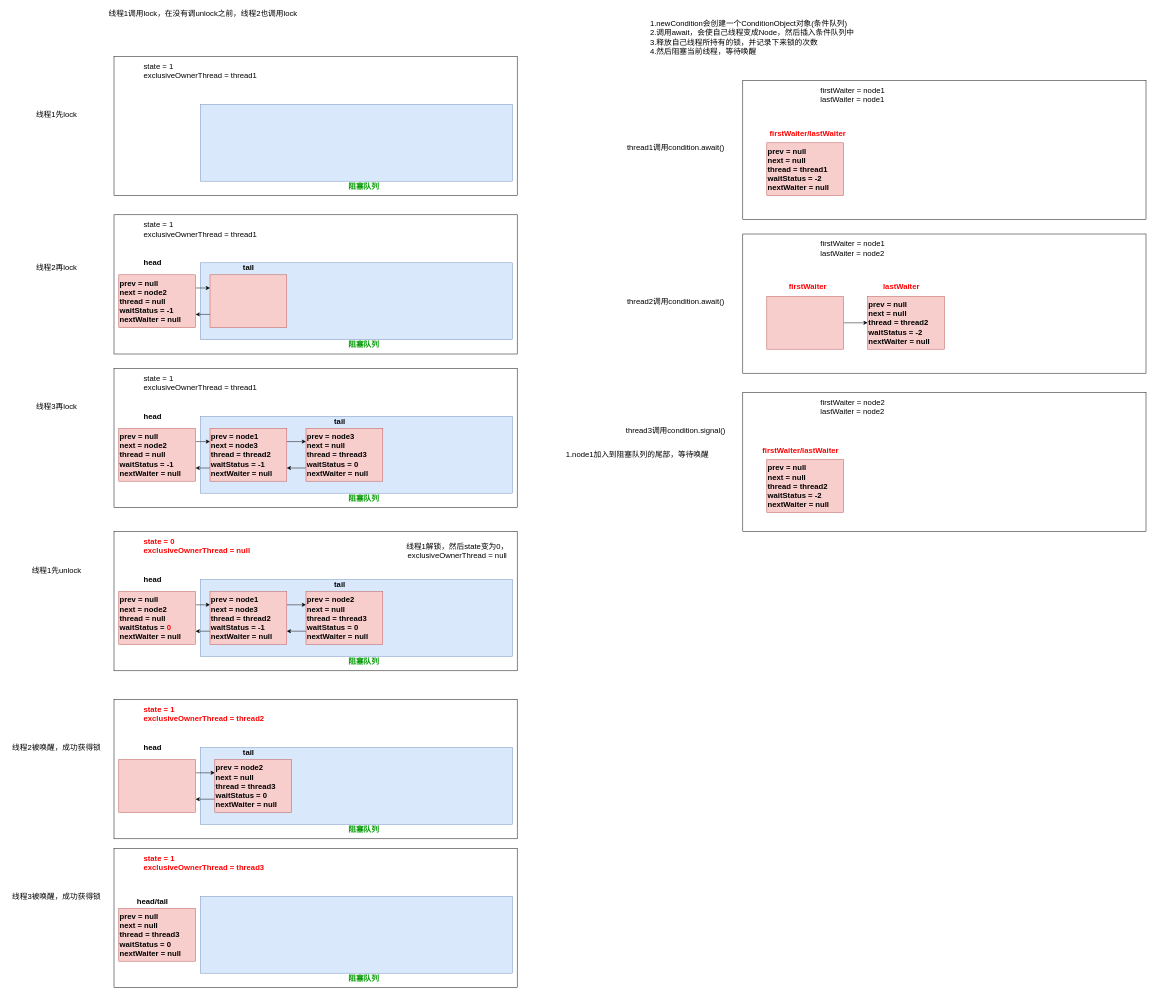
This 1154x996 diagram has some shape labels left out. Here are the shapes that lost their labels. From the top down, the centre of each, then its label:
the point at 248,301: prev = node1 next = null thread = thread2 waitStatus = 0 nextWaiter = null
the point at 805,322: prev = null next = null thread = thread1 waitStatus = -2 nextWaiter = node2
the point at 157,785: prev = null next = node3 thread = null waitStatus = -1 nextWaiter = null
